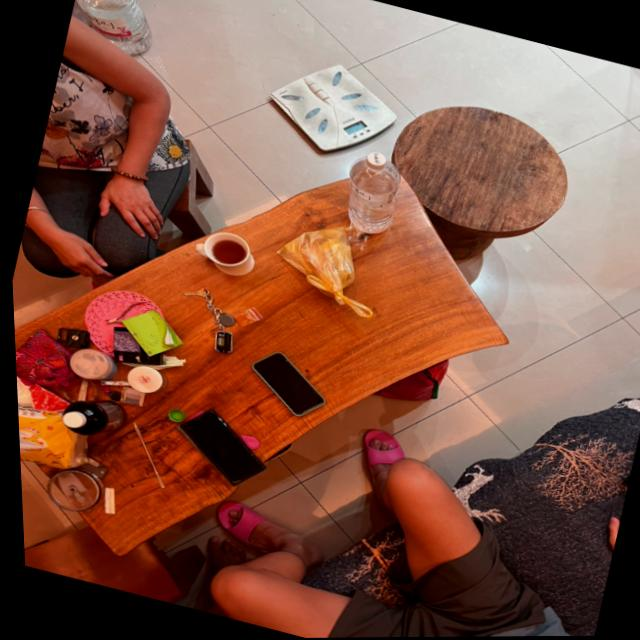Smartphone: (154, 396, 282, 506), (235, 340, 336, 429)
